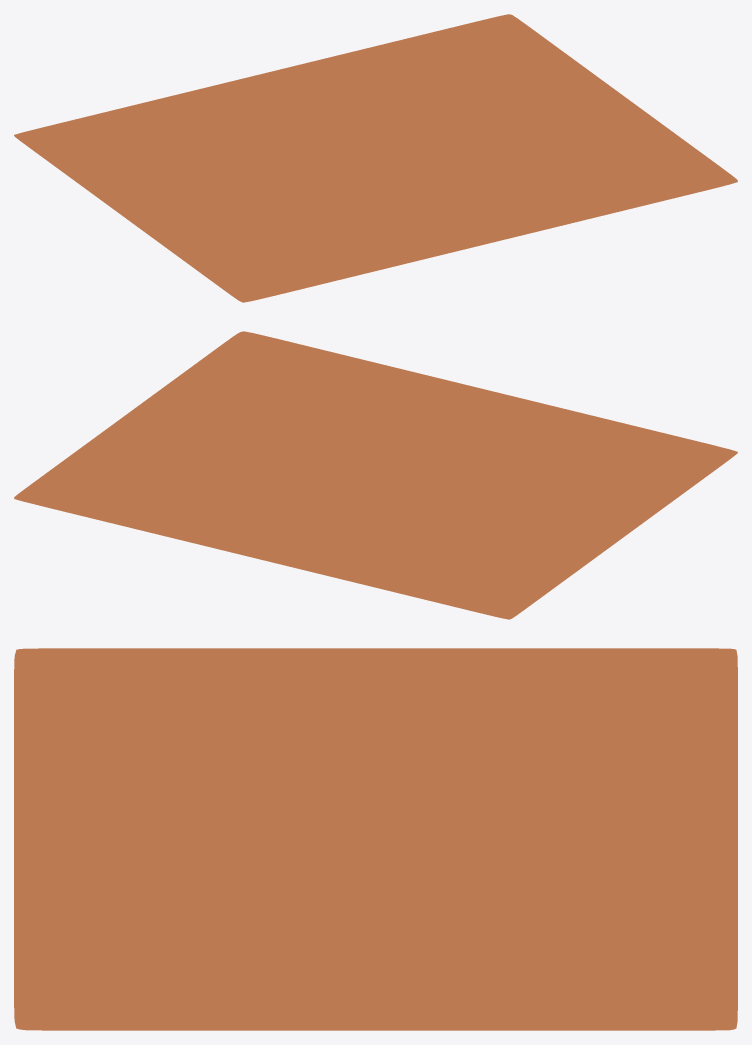
File: Floor.fbx
The picture shows the model from 3 angles, top to bottom: view 1: azimuth 30°, elevation 25°; view 2: azimuth 150°, elevation 25°; view 3: azimuth 270°, elevation 25°; orthographic projection. The views are drawn at different scales.
Parts seen in each view (by area): view 1: Floor; view 2: Floor; view 3: Floor.
Part boxes in pixels (box(x1,y1,x2,y2)): Floor: box(14, 14, 737, 302); Floor: box(14, 331, 737, 619); Floor: box(14, 648, 737, 1030).
Bounding box in the file's own units: 2340 × 0 × 1873.
